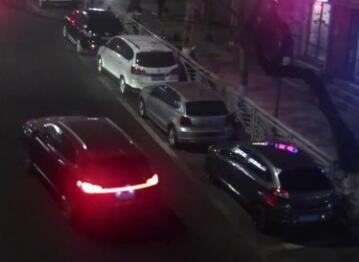car: (11, 111, 166, 226), (205, 135, 347, 241), (136, 81, 237, 150), (94, 32, 182, 95), (61, 7, 120, 55)
